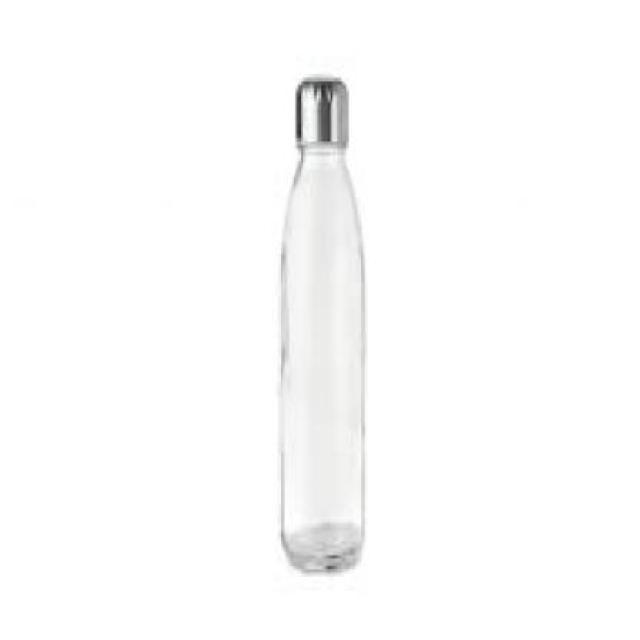kaca: (280, 138, 365, 570)
